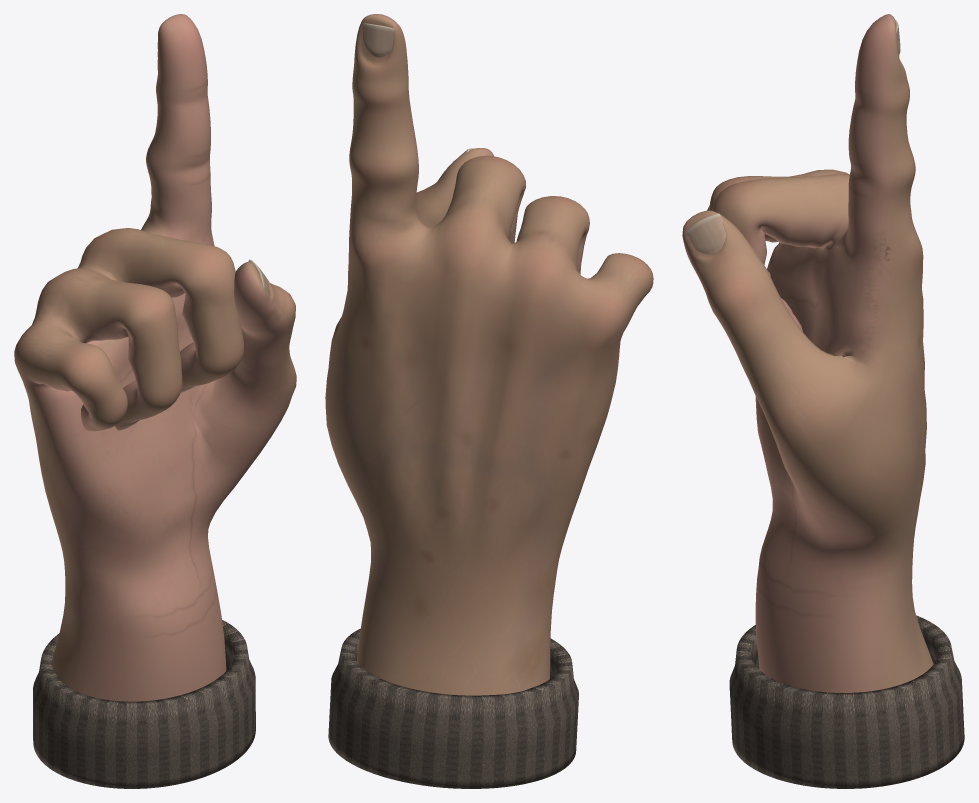
File: PH_Hand__Pointer.fbx
3 renders of one model, left to right at view 1: azimuth 30°, elevation 25°; view 2: azimuth 150°, elevation 25°; view 3: azimuth 270°, elevation 25°, orthographic. The views are drawn at different scales.
Parts seen in each view (by area): view 1: PH_Hand__Pointer; view 2: PH_Hand__Pointer; view 3: PH_Hand__Pointer.
Part boxes in pixels (x1,y1,x2,y2): PH_Hand__Pointer: (14, 14, 296, 788); PH_Hand__Pointer: (325, 14, 653, 788); PH_Hand__Pointer: (682, 14, 964, 788).
Bounding box in the file's own units: 0.0711 × 0.175 × 0.0593.
